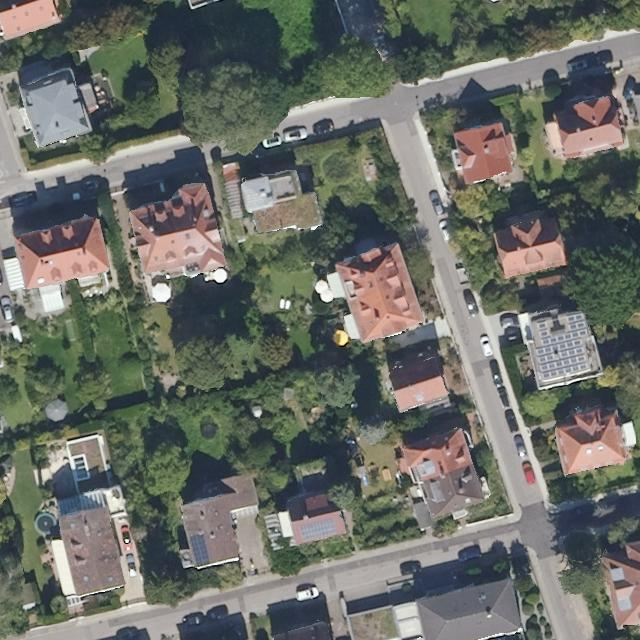PV: (533, 312, 591, 380), (298, 518, 338, 542), (188, 532, 211, 565)
